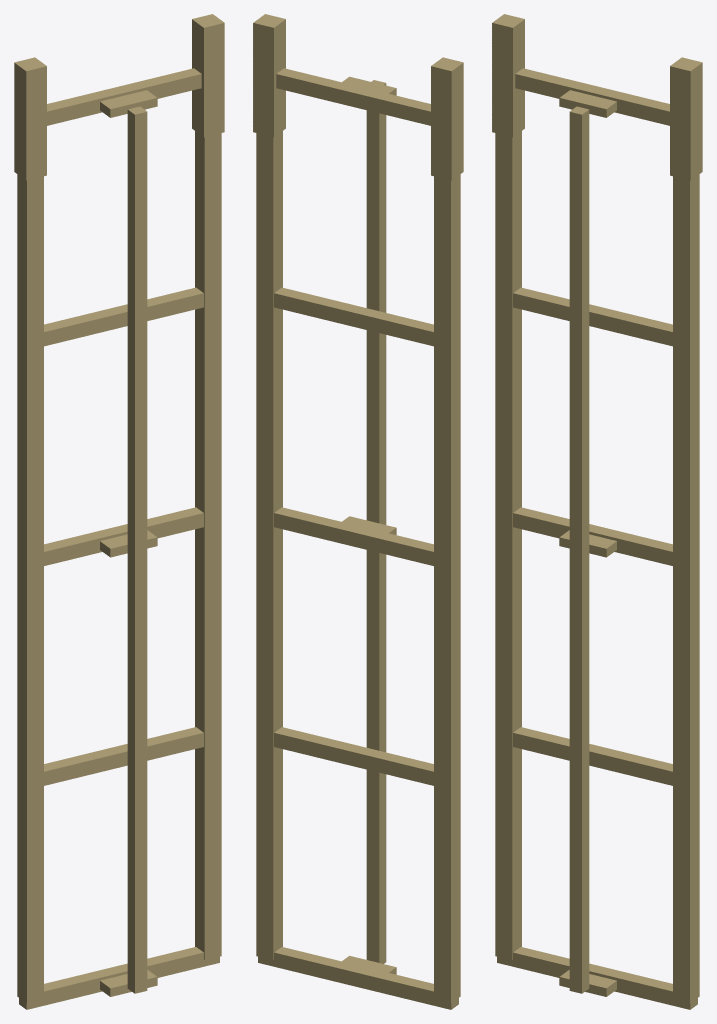
File: SM_Ladder_EngineUpper_ToHullFloor.fbx
The picture shows the model from 3 angles, left to right: view 1: azimuth 30°, elevation 25°; view 2: azimuth 150°, elevation 25°; view 3: azimuth 330°, elevation 25°; orthographic projection.
Parts seen in each view (by area): view 1: SM_Ladder_EngineUpper_ToHullFloor; view 2: SM_Ladder_EngineUpper_ToHullFloor; view 3: SM_Ladder_EngineUpper_ToHullFloor.
Part boxes in pixels (x1,y1,x2,y2): SM_Ladder_EngineUpper_ToHullFloor: [14, 14, 224, 1009]; SM_Ladder_EngineUpper_ToHullFloor: [253, 14, 463, 1009]; SM_Ladder_EngineUpper_ToHullFloor: [492, 14, 702, 1009].
Size of the model in its own units: 38 by 9.2 by 172.
